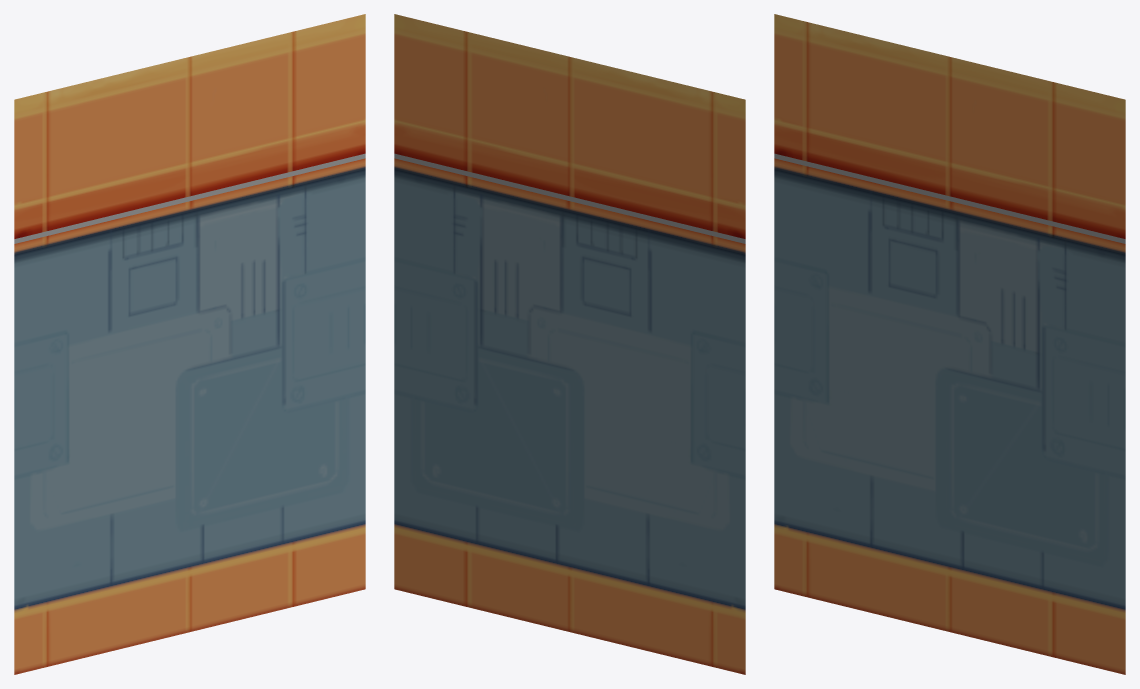
The model's file is Wall1_1.fbx.
The picture shows the model from 3 angles, left to right: view 1: azimuth 30°, elevation 25°; view 2: azimuth 150°, elevation 25°; view 3: azimuth 330°, elevation 25°; orthographic projection.
Parts seen in each view (by area): view 1: Wall1_1; view 2: Wall1_1; view 3: Wall1_1.
Boxes of the visible parts, x1,y1,x2,y2 form: Wall1_1: (14, 14, 365, 674); Wall1_1: (394, 14, 745, 674); Wall1_1: (774, 14, 1125, 674).
Size of the model in its own units: 153 by 240 by 0.00134.
2 materials, 1 textured.
